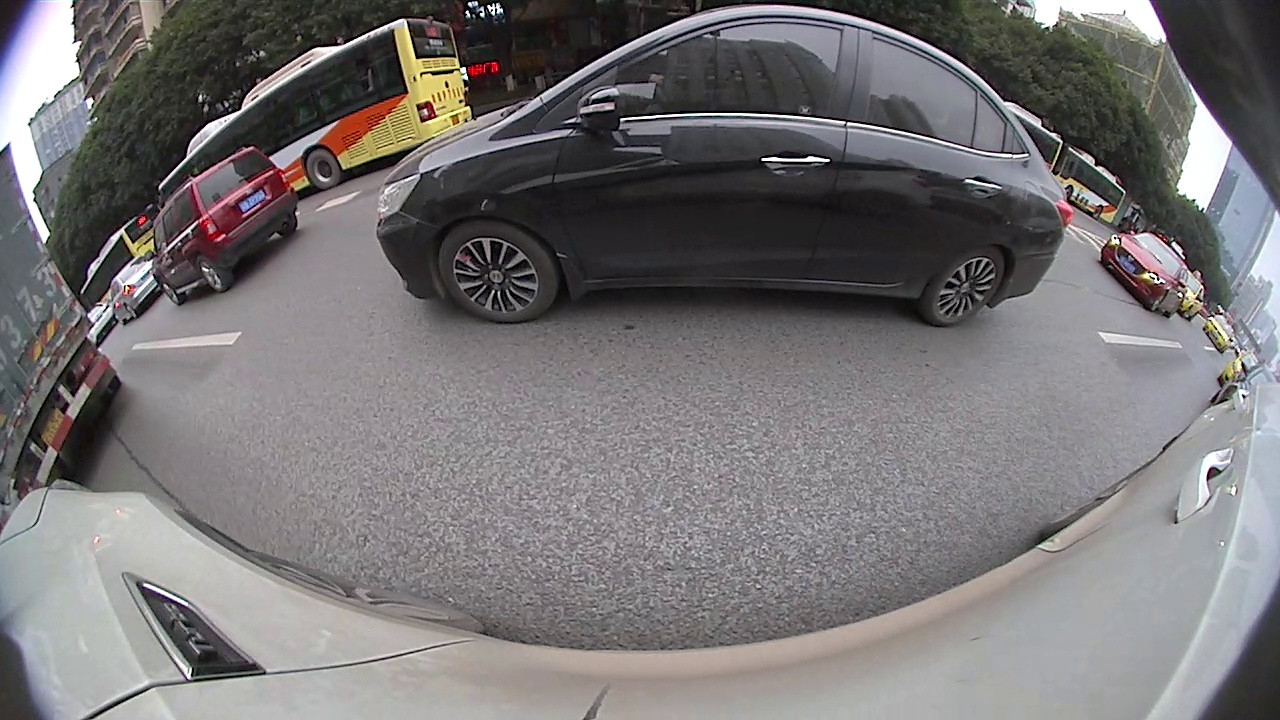bus: (156, 16, 467, 200), (78, 209, 163, 310), (1057, 138, 1128, 226), (1006, 107, 1064, 170)
car: (377, 1, 1071, 329), (150, 144, 299, 303), (1104, 231, 1189, 321), (114, 253, 160, 324), (1221, 369, 1278, 400), (1179, 276, 1207, 320), (1204, 319, 1234, 351)
front: (433, 219, 561, 321), (157, 277, 190, 307), (1148, 289, 1170, 315), (1066, 187, 1075, 199)
rear: (931, 239, 1002, 325), (303, 147, 341, 188), (197, 252, 235, 291), (1094, 204, 1102, 221)
truck: (1, 146, 121, 502)
